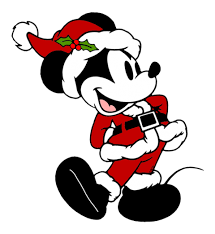mickeymouse: (10, 14, 182, 224)
